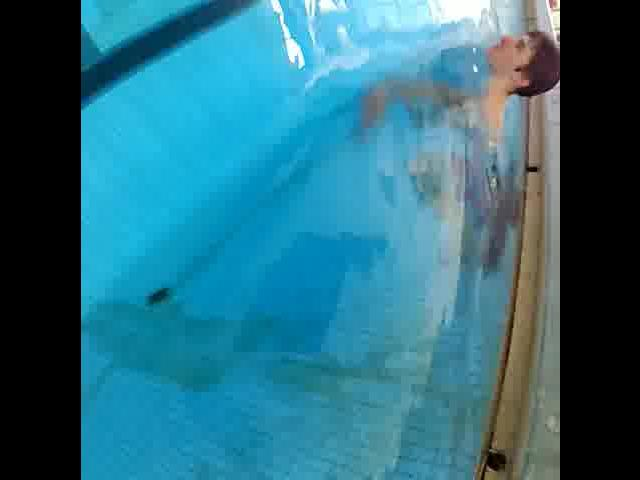Can: (479, 136, 509, 196)
